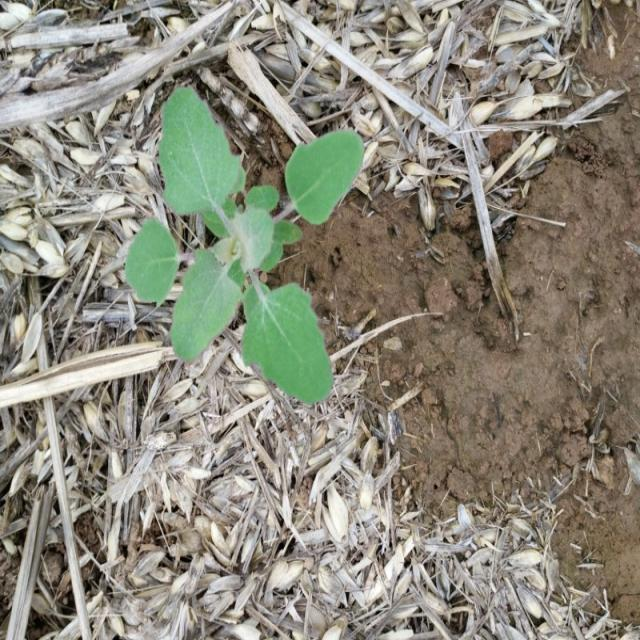goosefoots: (118, 110, 379, 408)
